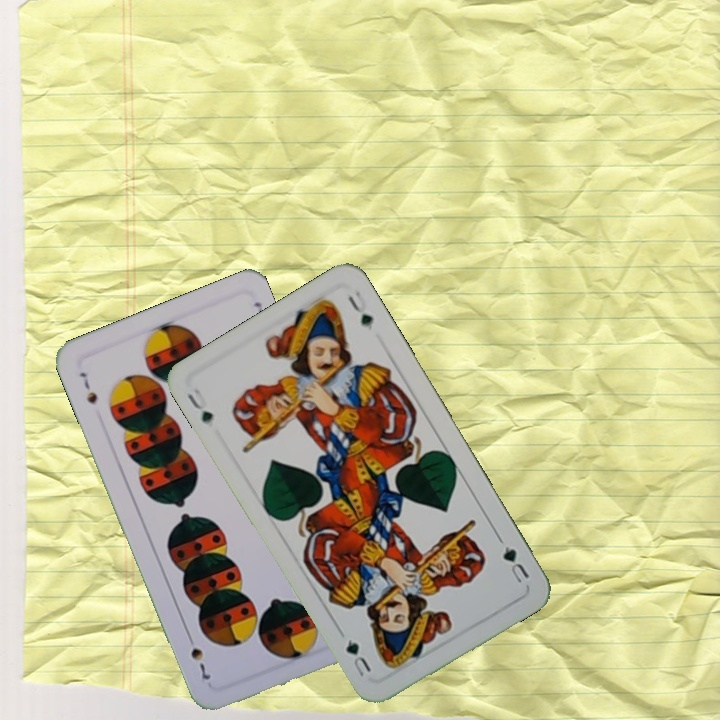GU: (494, 534, 532, 586), (183, 383, 216, 427)
S7: (75, 368, 100, 407)
